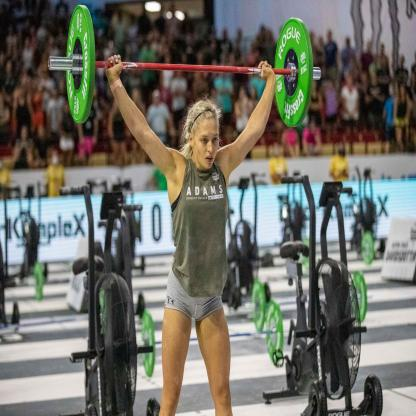barbell: (67, 5, 92, 125)
